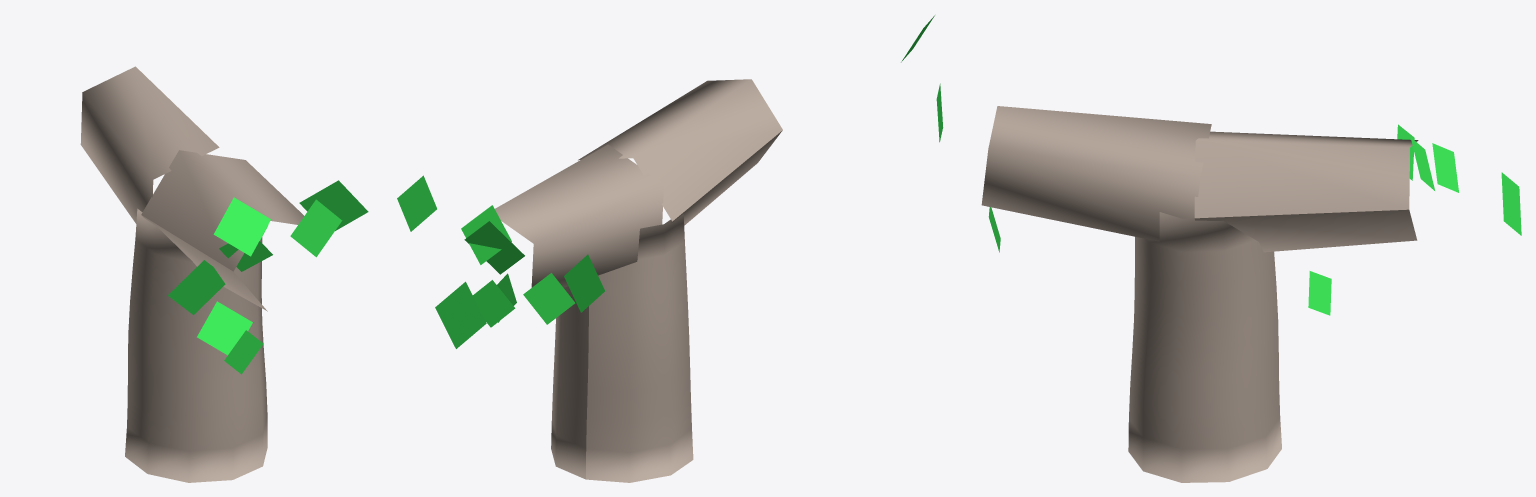
File: crypt_mushroom.glb
The picture shows the model from 3 angles, left to right: view 1: azimuth 30°, elevation 25°; view 2: azimuth 150°, elevation 25°; view 3: azimuth 270°, elevation 25°; orthographic projection. The views are drawn at different scales.
Visible parts, largest first — view 1: LOD_0; view 2: LOD_0; view 3: LOD_0.
Part boxes in pixels (x1,y1,x2,y2): LOD_0: [80, 66, 368, 482]; LOD_0: [397, 79, 782, 482]; LOD_0: [901, 15, 1521, 482].
Size of what is drawn, in the model's own units: 1.47 by 2.25 by 3.23.
